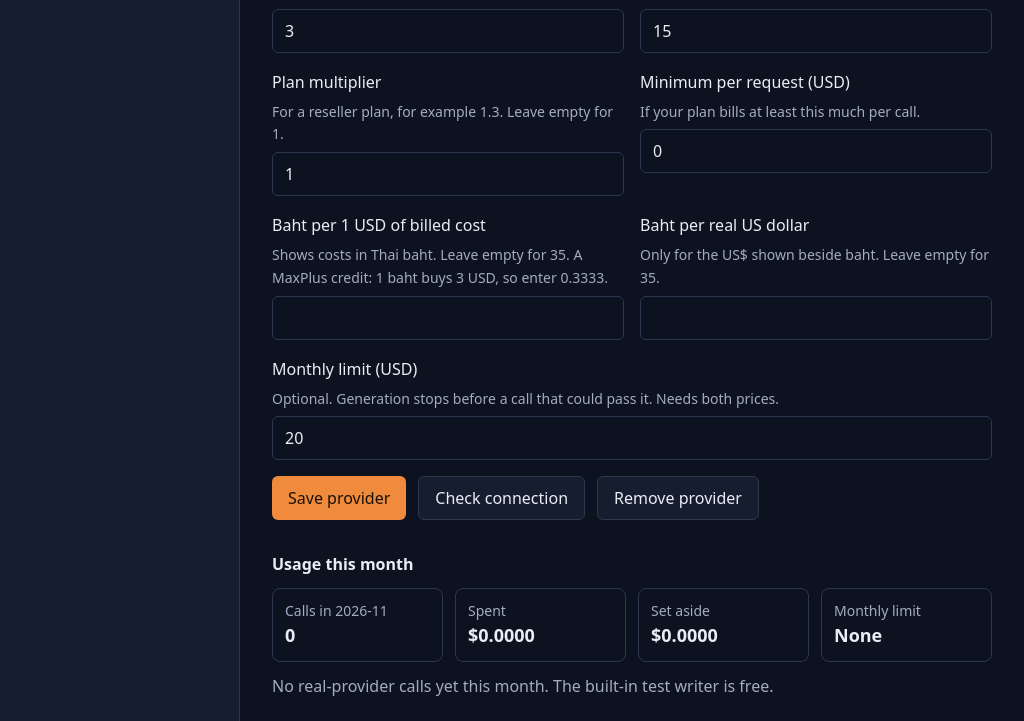
Test case: Settings: text provider › removes the provider only after confirmation
(page scrolled)
Click the button "Remove provider" at (678, 498), box [597, 476, 759, 520]
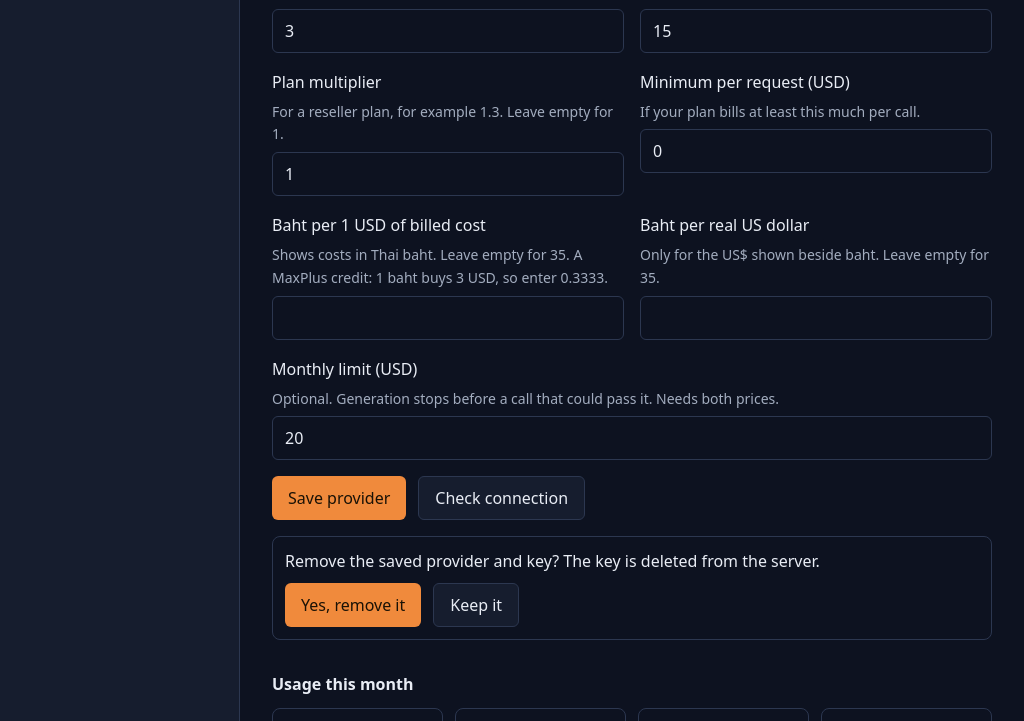
Click the button "Keep it" at (476, 605), box [433, 583, 519, 627]
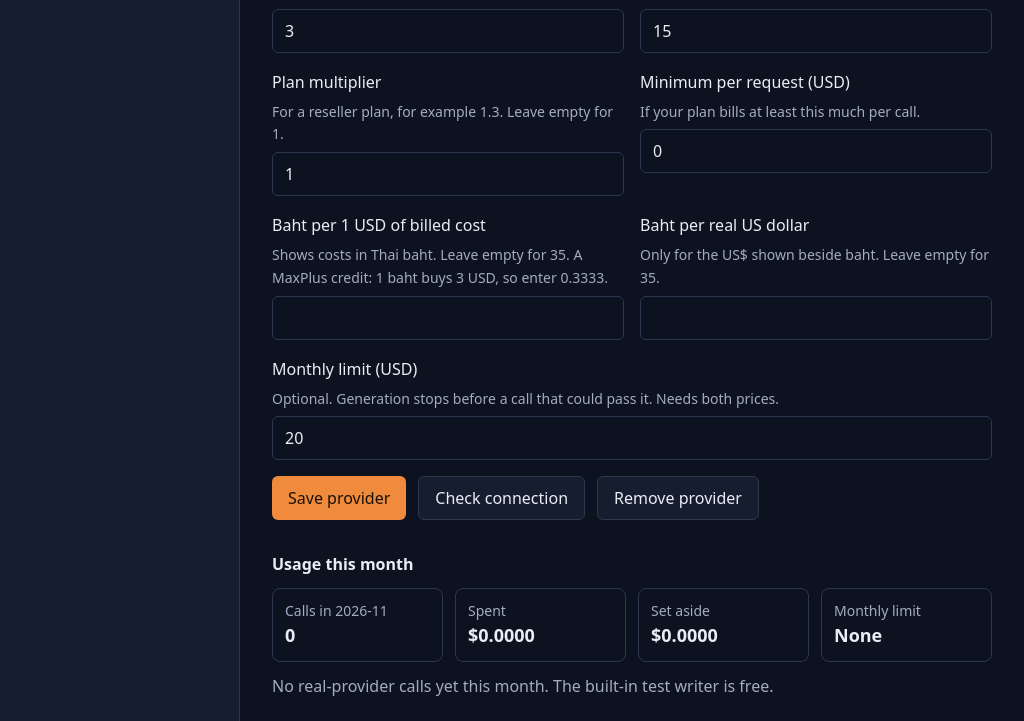
Click the button "Remove provider" at (678, 498), box [597, 476, 759, 520]
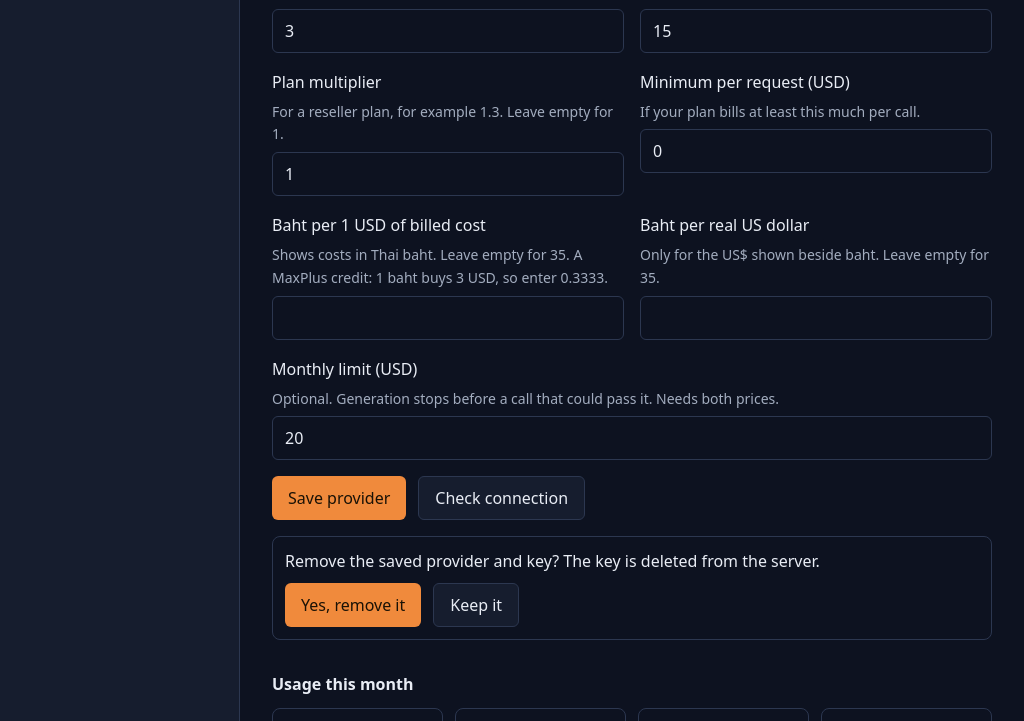
Click the button "Yes, remove it" at (353, 605), box [285, 583, 421, 627]
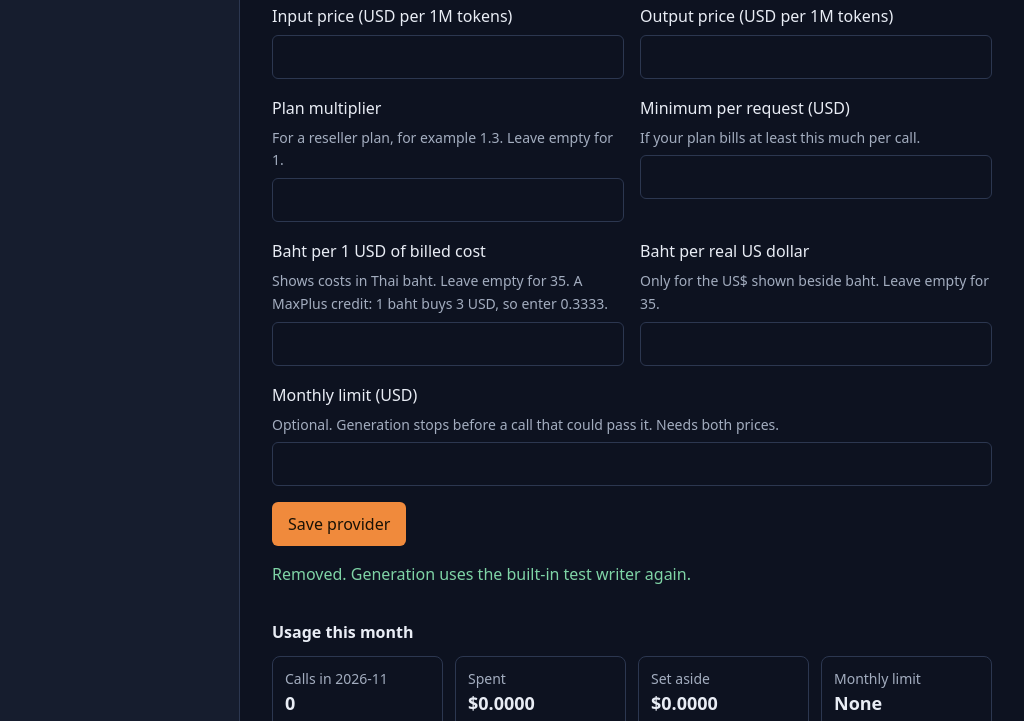
Check: the text "Removed. Generation uses the built-in test writer again." is shown, box [272, 563, 691, 585]
